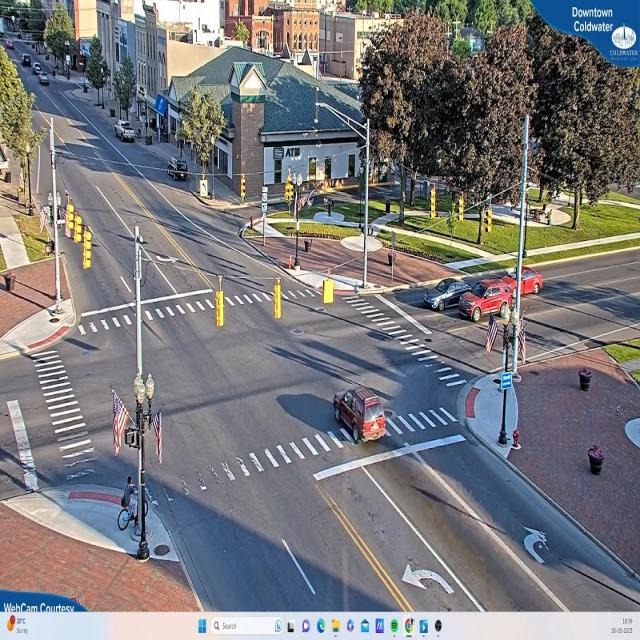car: (336, 387, 390, 445), (461, 278, 513, 325), (424, 276, 466, 313), (165, 159, 189, 180), (116, 123, 136, 143)
